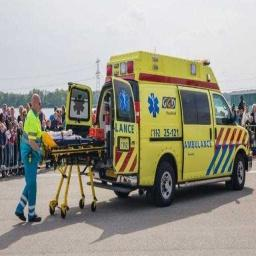Ambulance: (93, 51, 251, 205)
